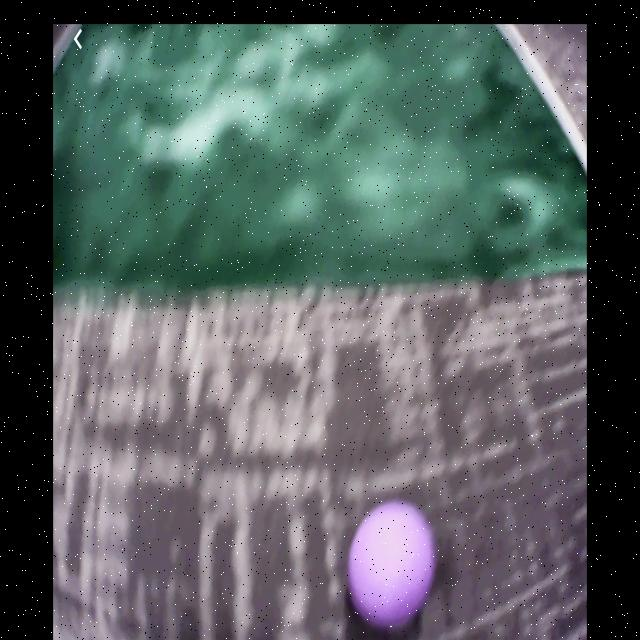ball: (349, 499, 438, 627)
